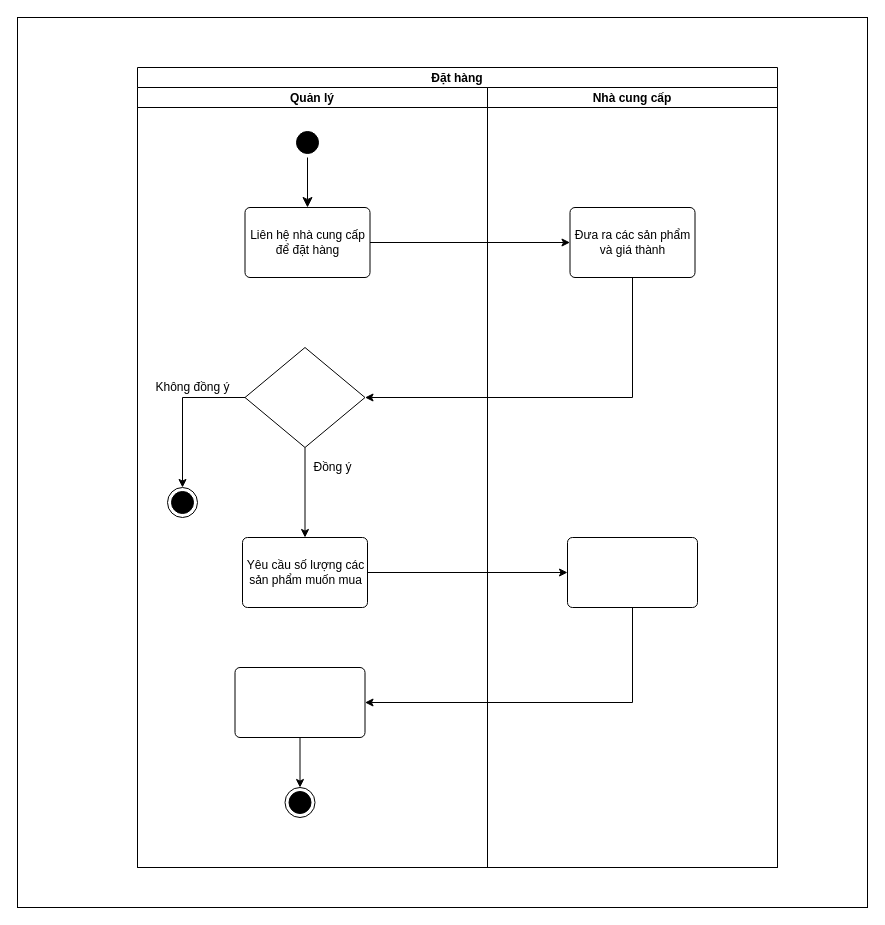
This 885x925 diagram has some shape labels left out. The centre of each missing label's shape, as x and y in pixels:
"Thanh toán và cung cấp địa chỉ giao hàng" belongs at point 299,702.
"Xem xét về sản phẩm và giá thành" belongs at point 304,397.
"Yêu cầu thanh toán và cung cấp địa chỉ giao hàng" belongs at point 632,572.
